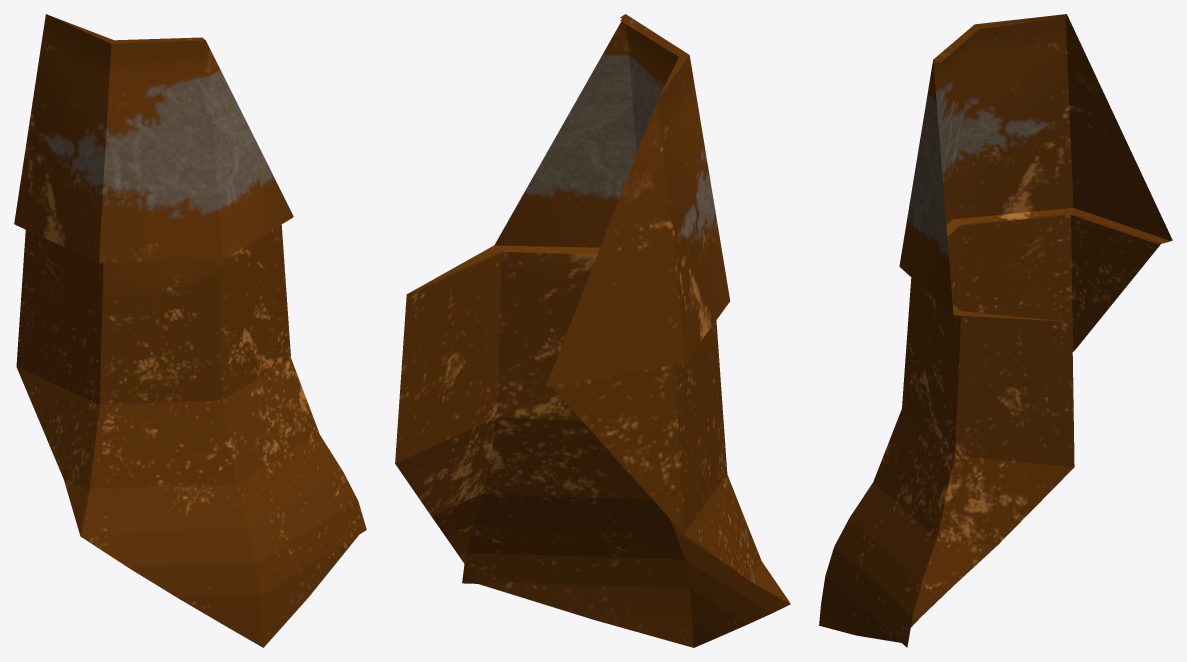
File: Bottle_07.FBX
The picture shows the model from 3 angles, left to right: view 1: azimuth 30°, elevation 25°; view 2: azimuth 150°, elevation 25°; view 3: azimuth 270°, elevation 25°; orthographic projection. The views are drawn at different scales.
Parts seen in each view (by area): view 1: Object015; view 2: Object015; view 3: Object015.
Part boxes in pixels (x1=…): Object015: x1=14, y1=14, x2=366, y2=647; Object015: x1=395, y1=14, x2=790, y2=647; Object015: x1=819, y1=14, x2=1172, y2=647.
Bounding box in the file's own units: 67.53 × 131 × 74.17.
Materials: 1 (1 with a texture image).
